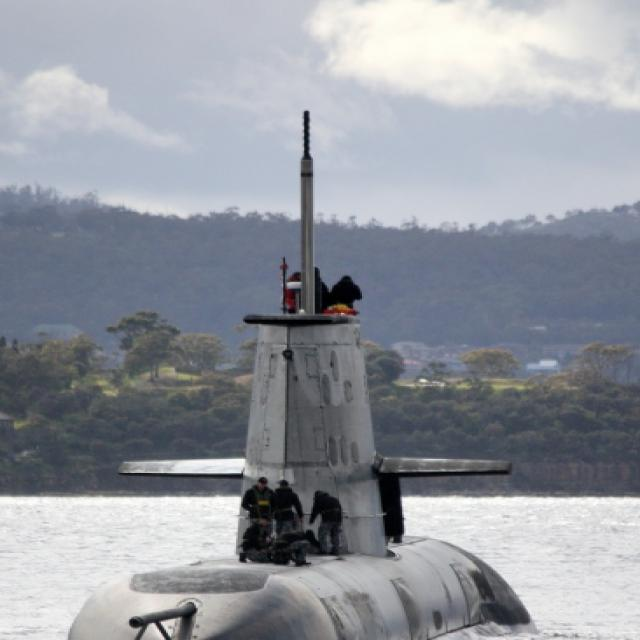submarine: (1, 105, 559, 640)
